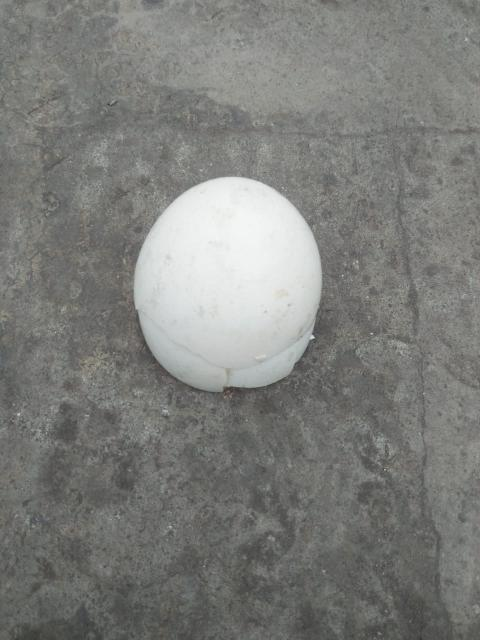Roto: (132, 175, 323, 392)
